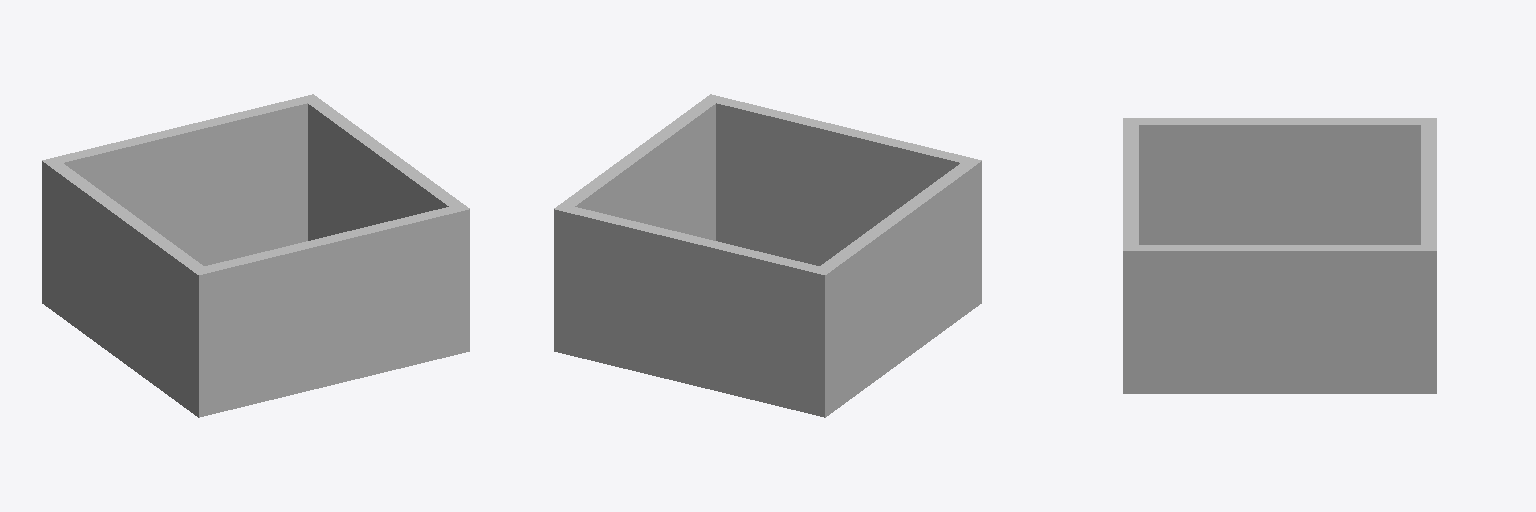
The model's file is End.obj.
3 views of the same model, side by side, from view 1: azimuth 30°, elevation 25°; view 2: azimuth 150°, elevation 25°; view 3: azimuth 270°, elevation 25° (orthographic).
Parts seen in each view (by area): view 1: End_old; view 2: End_old; view 3: End_old.
Part boxes in pixels (x1,y1,x2,y2): End_old: (42,94,469,417); End_old: (554,94,981,417); End_old: (1123,118,1436,393).
Bounding box in the file's own units: 2 × 1 × 2.